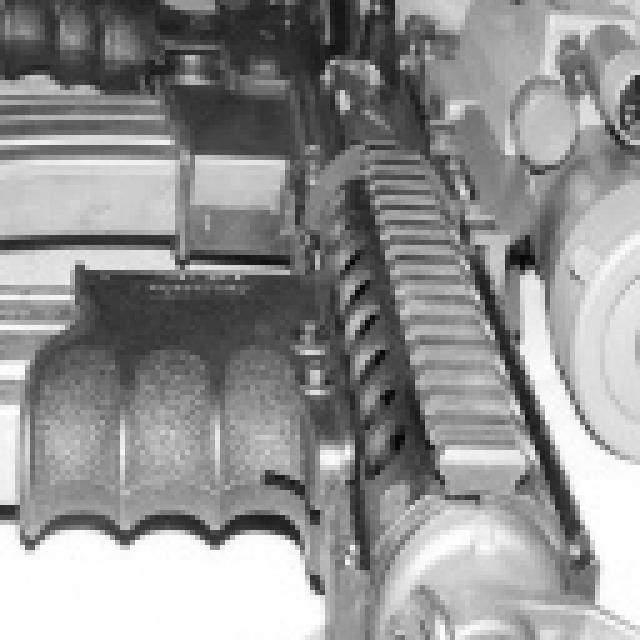Rifle: (0, 4, 632, 640)
